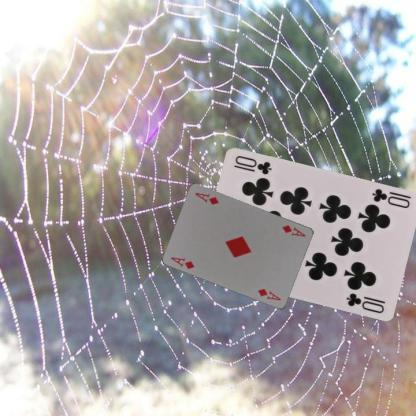10c: (369, 186, 412, 210)
Ad: (169, 254, 196, 271), (280, 222, 307, 238)
